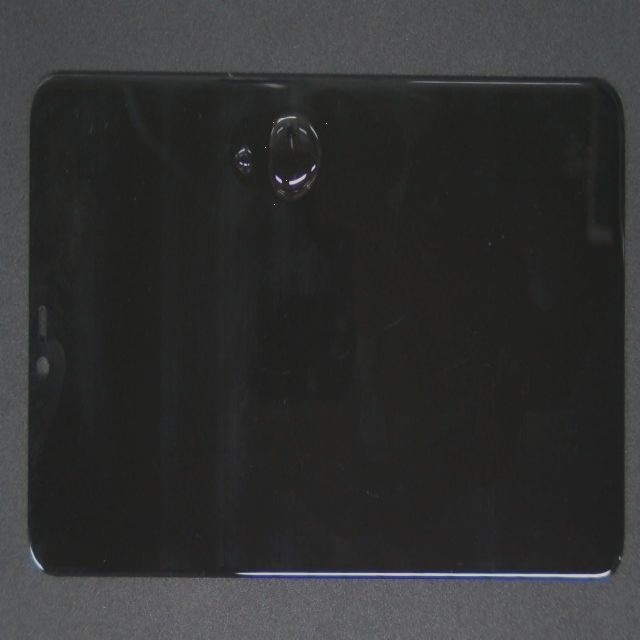oil: (123, 36, 399, 244), (131, 56, 363, 201)
